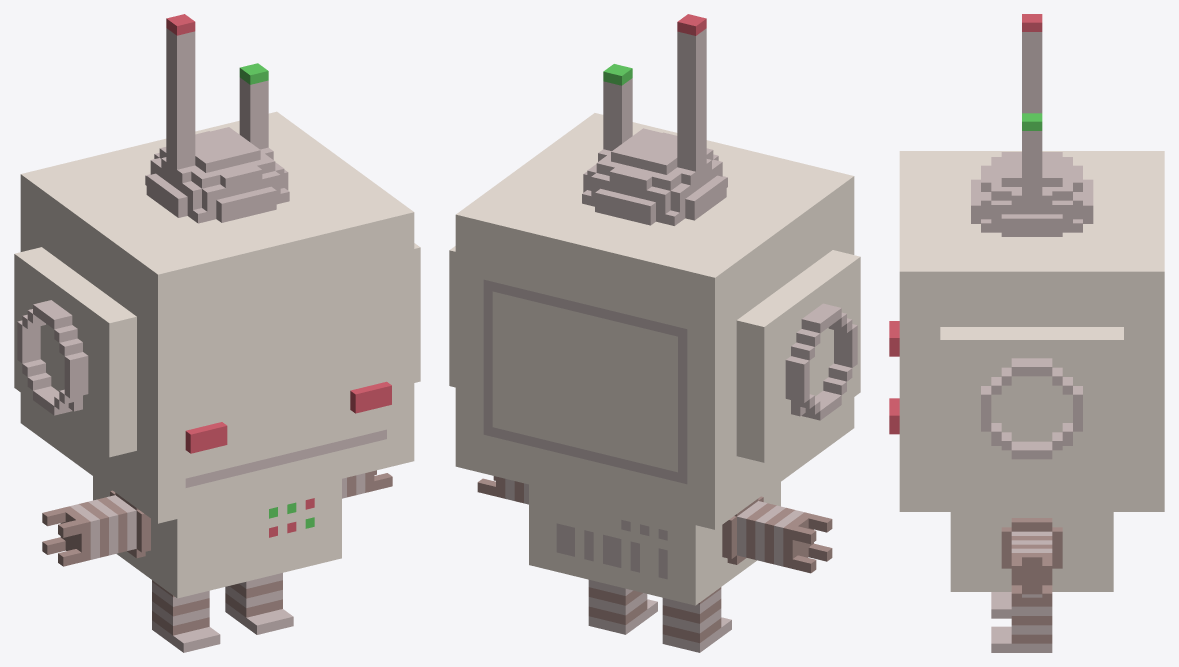
Rendered from robotEnemy.obj.
The picture shows the model from 3 angles, left to right: view 1: azimuth 30°, elevation 25°; view 2: azimuth 150°, elevation 25°; view 3: azimuth 270°, elevation 25°; orthographic projection. The views are drawn at different scales.
Bounding box in the file's own units: 38 × 64 × 27.
